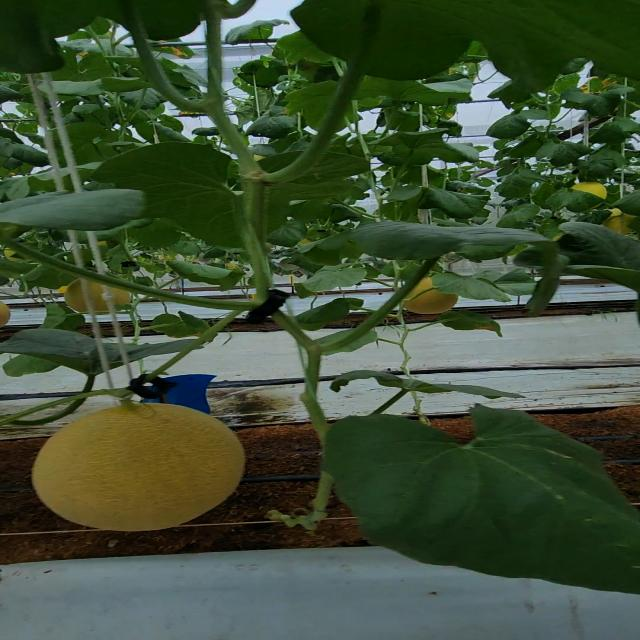Melon: (31, 394, 245, 535)
